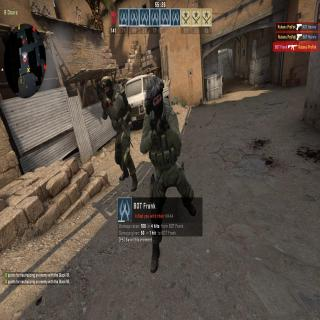CT-Body: (133, 67, 194, 240), (97, 74, 136, 176), (221, 72, 224, 92)
CT-Head: (147, 85, 164, 114), (100, 78, 113, 99)
